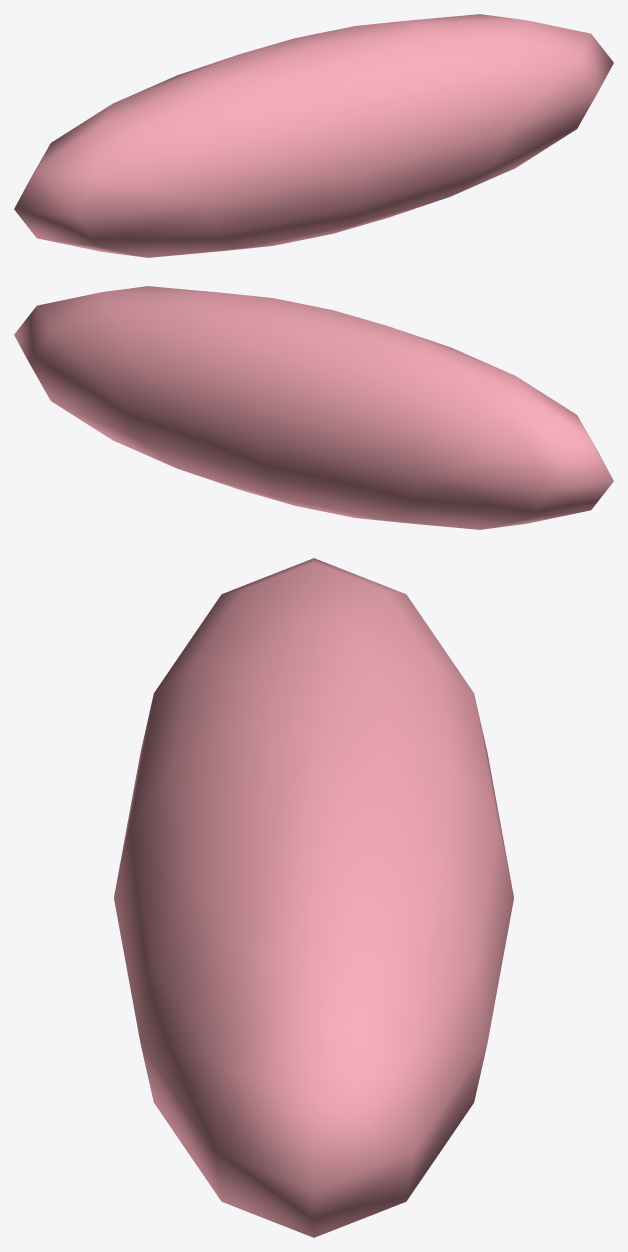
Rendered from Sprinkle.fbx.
3 renders of one model, top to bottom at view 1: azimuth 30°, elevation 25°; view 2: azimuth 150°, elevation 25°; view 3: azimuth 270°, elevation 25°, orthographic. The views are drawn at different scales.
Parts seen in each view (by area): view 1: Sprinkle; view 2: Sprinkle; view 3: Sprinkle.
Boxes of the visible parts, x1,y1,x2,y2 form: Sprinkle: [14, 14, 613, 257]; Sprinkle: [14, 286, 613, 529]; Sprinkle: [114, 558, 513, 1237].
Bounding box in the file's own units: 0.009 × 0.0026 × 0.0026.
